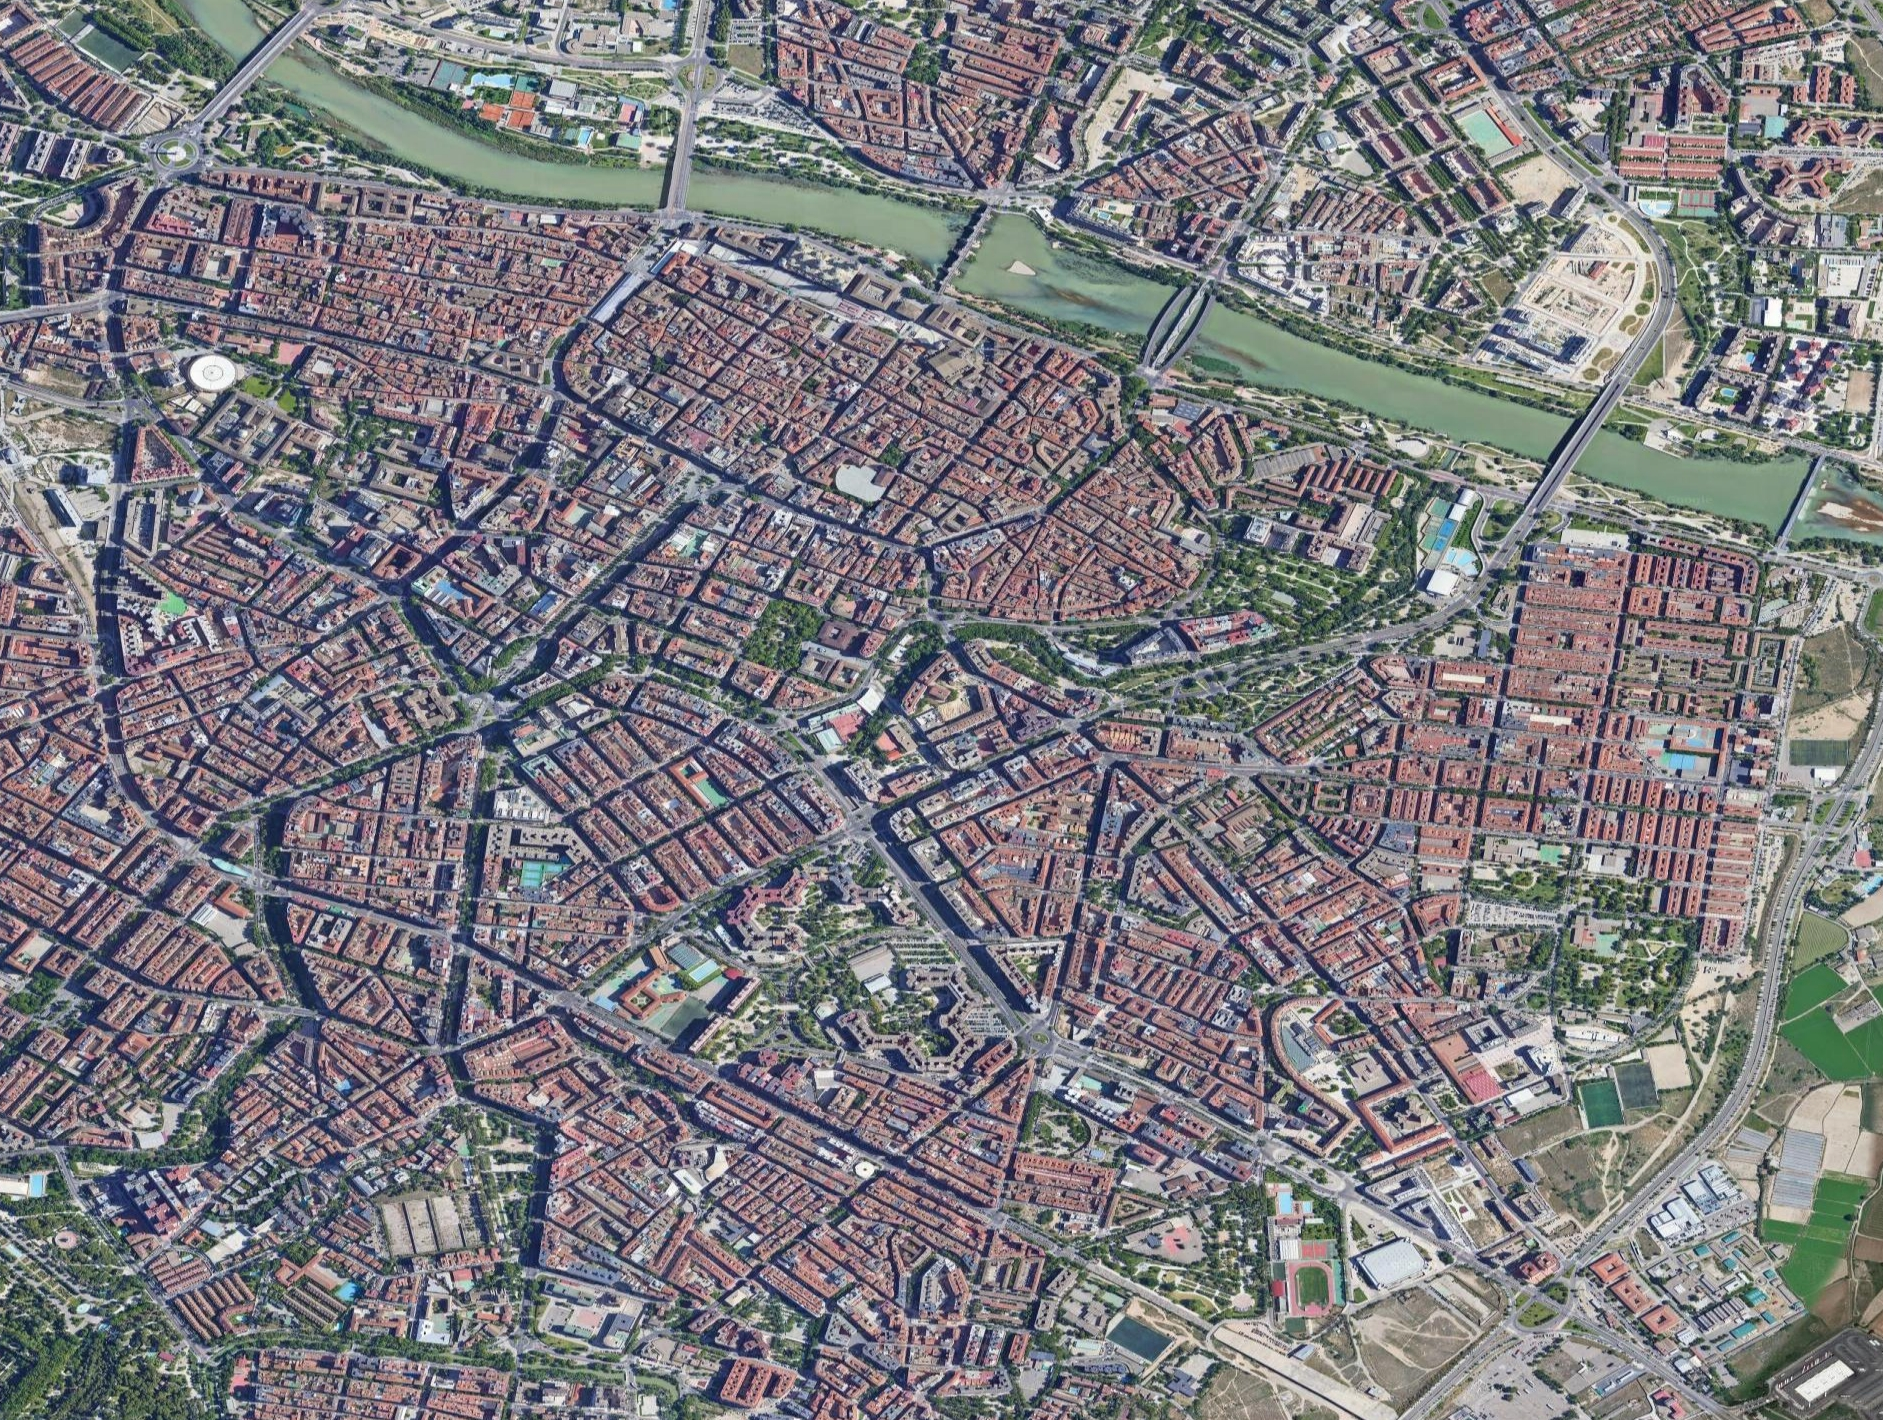bridge: (1124, 277, 1231, 377), (903, 197, 1011, 297), (616, 133, 722, 233), (1524, 392, 1631, 491), (204, 1, 312, 100), (1761, 450, 1843, 541)
